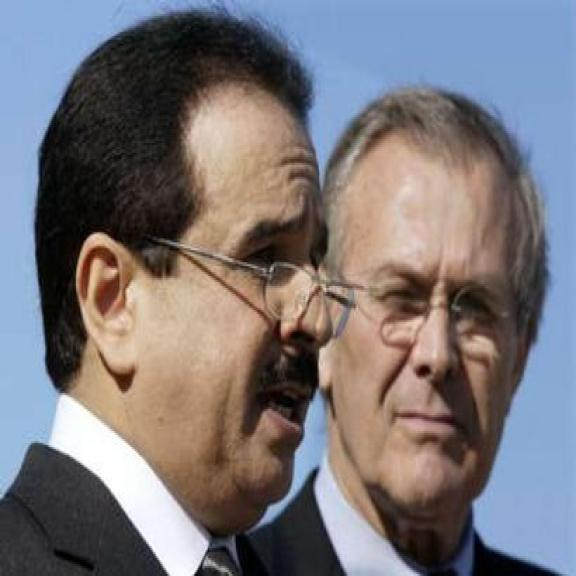face: (62, 48, 334, 524), (319, 88, 538, 527)
